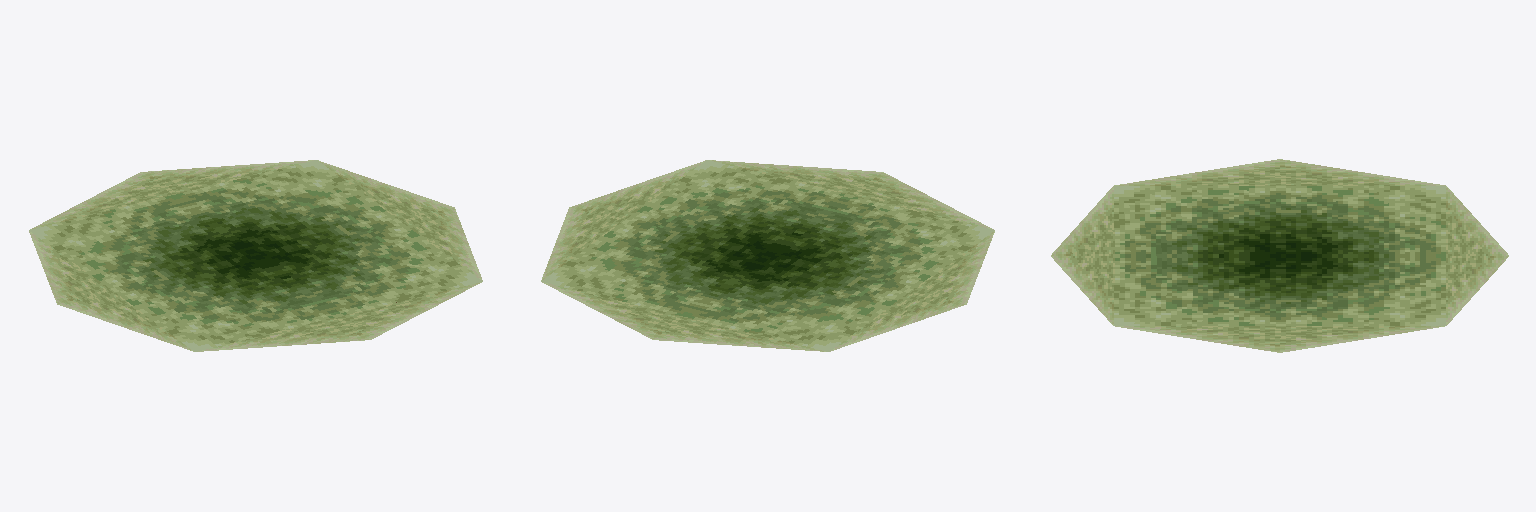
The picture shows the model from 3 angles: view 1: azimuth 30°, elevation 25°; view 2: azimuth 150°, elevation 25°; view 3: azimuth 270°, elevation 25°; orthographic projection.
Visible parts, largest first — view 1: T1L2M008_7; view 2: T1L2M008_7; view 3: T1L2M008_7.
Boxes of the visible parts, x1=… form: T1L2M008_7: x1=29, y1=160, x2=482, y2=351; T1L2M008_7: x1=541, y1=160, x2=994, y2=351; T1L2M008_7: x1=1051, y1=159, x2=1508, y2=352.
Bounding box in the file's own units: 2 × 0 × 2.
Materials: 1 (1 with a texture image).